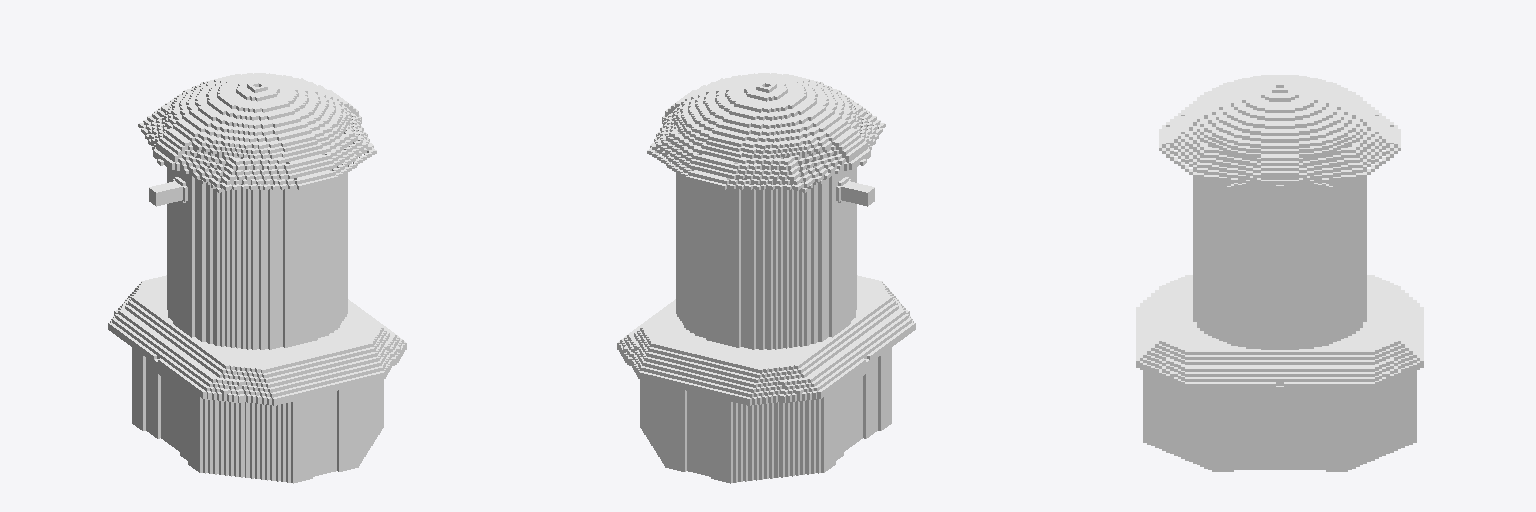
The model's file is Melnitsa.obj.
3 views of the same model, side by side, from view 1: azimuth 30°, elevation 25°; view 2: azimuth 150°, elevation 25°; view 3: azimuth 270°, elevation 25° (orthographic).
Parts seen in each view (by area): view 1: object 1; view 2: object 1; view 3: object 1.
Boxes of the visible parts, box(x1,y1,x2,y2) form: object 1: box(108, 73, 406, 483); object 1: box(617, 73, 915, 483); object 1: box(1136, 75, 1423, 471).
Bounding box in the file's own units: 6.3 × 9.9 × 7.6.